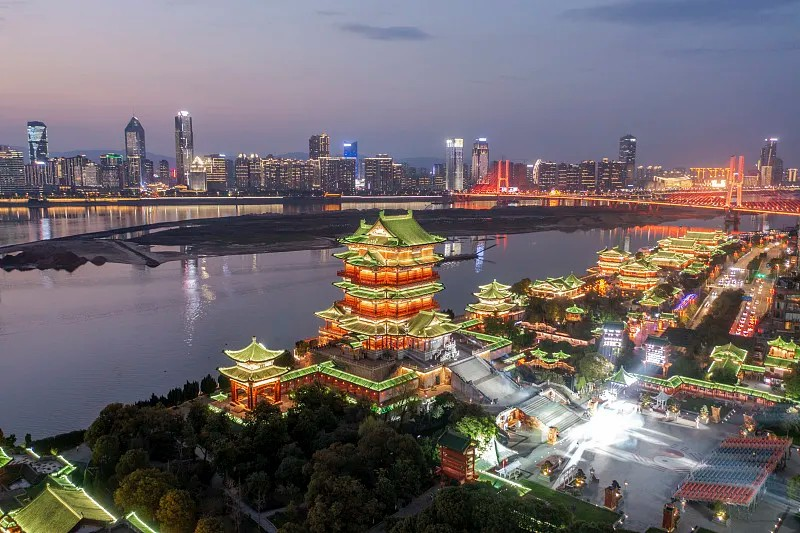Teng: (315, 209, 464, 355)
